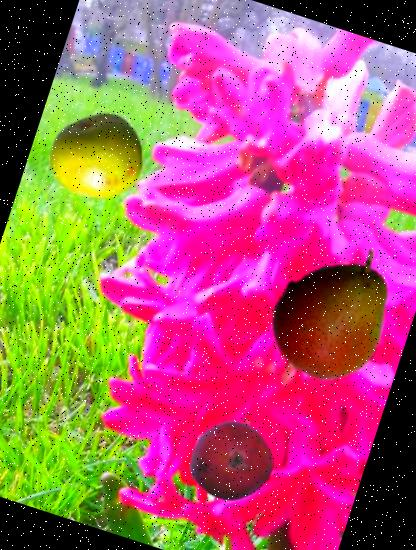Pear: (246, 223, 416, 403)
Pomegranate: (180, 411, 283, 514)
Pomelo: (36, 98, 154, 216)
